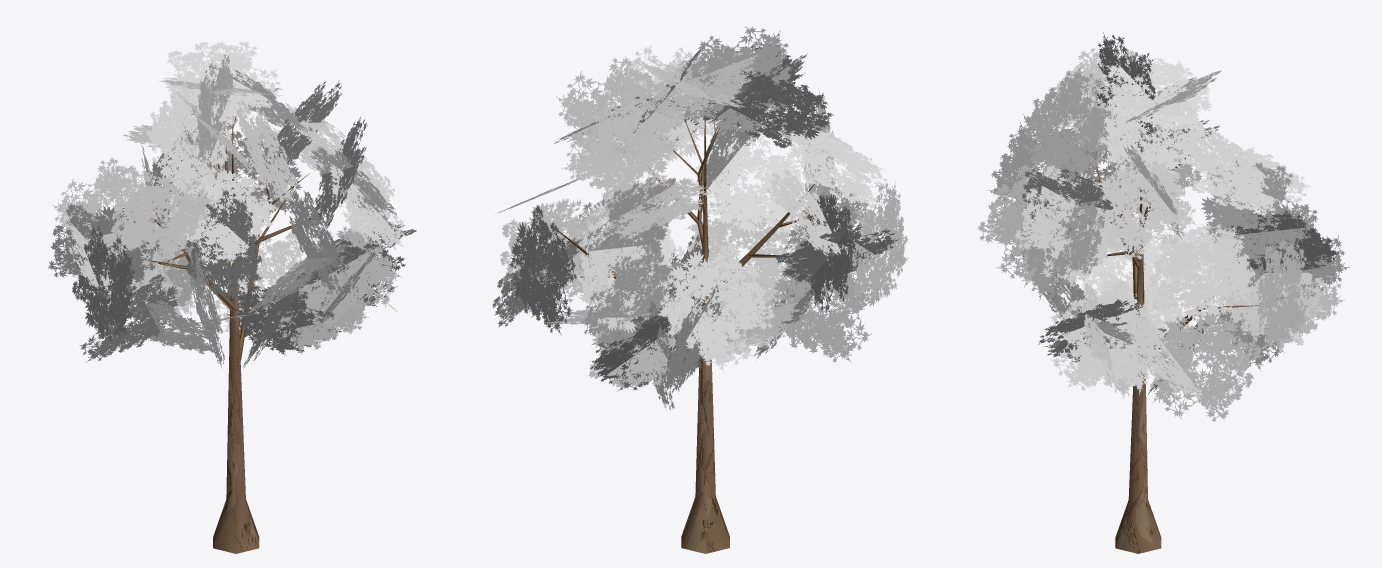
File: P_TREE4.fbx
3 renders of one model, left to right at view 1: azimuth 30°, elevation 25°; view 2: azimuth 150°, elevation 25°; view 3: azimuth 270°, elevation 25°, orthographic. The views are drawn at different scales.
Visible parts, largest first — view 1: Plane.004, Trunk05; view 2: Plane.004, Trunk05; view 3: Plane.004, Trunk05.
Boxes of the visible parts, bbox=[...] form: Plane.004: bbox=[48, 41, 416, 368]; Trunk05: bbox=[151, 116, 341, 553]; Plane.004: bbox=[492, 26, 908, 410]; Trunk05: bbox=[558, 103, 846, 553]; Plane.004: bbox=[977, 32, 1349, 421]; Trunk05: bbox=[1084, 121, 1257, 553].
Bounding box in the file's own units: 329 × 412 × 312.
